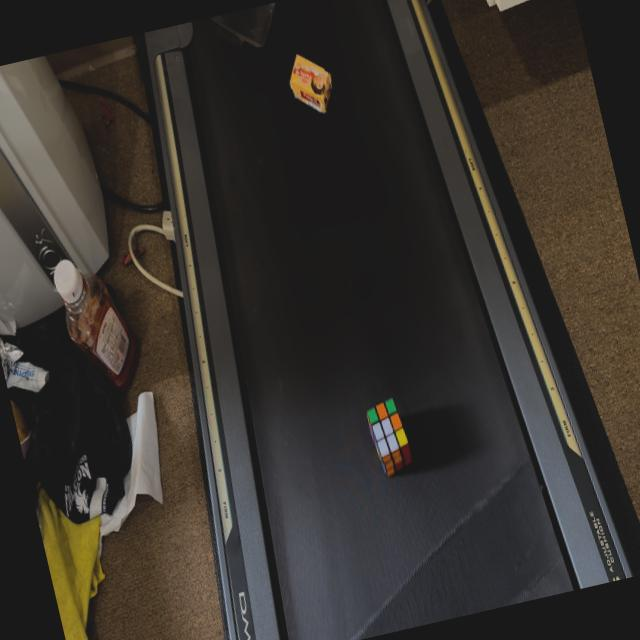Recycle: (203, 1, 287, 61)
Trash: (362, 393, 416, 476), (281, 45, 338, 118)
